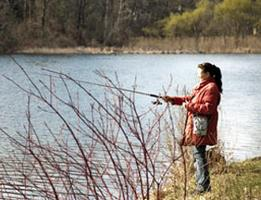person: (162, 62, 224, 193)
